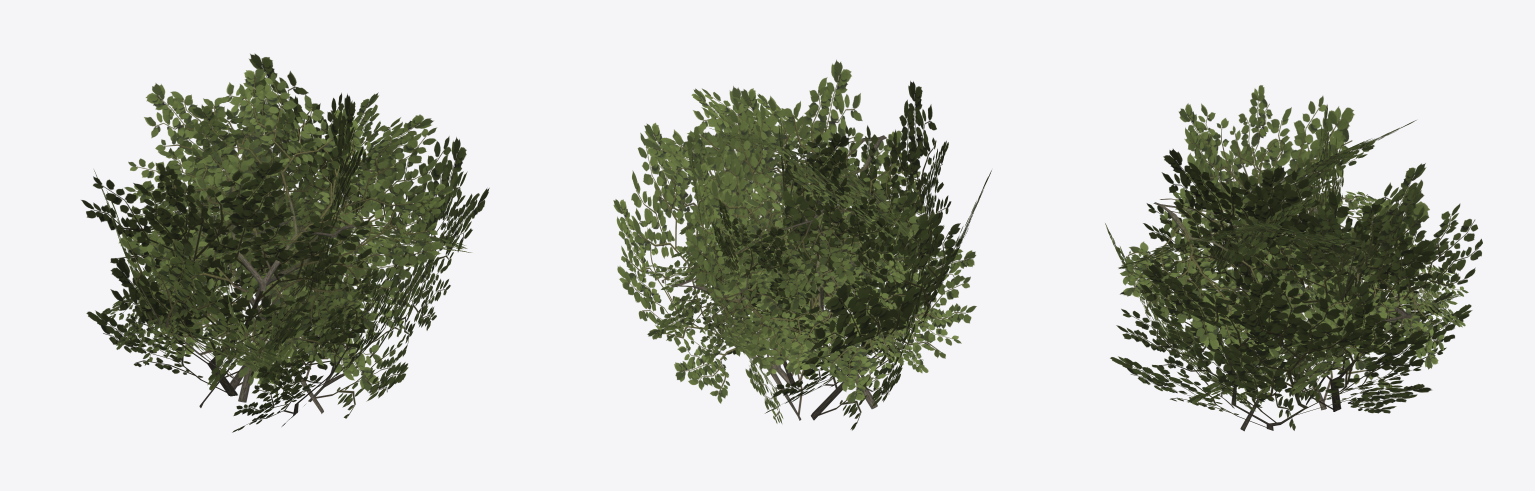
File: bush-4.glb
3 renders of one model, left to right at view 1: azimuth 30°, elevation 25°; view 2: azimuth 150°, elevation 25°; view 3: azimuth 270°, elevation 25°, orthographic. The views are drawn at different scales.
Parts seen in each view (by area): view 1: Bush-01; view 2: Bush-01; view 3: Bush-01.
Boxes of the visible parts, box(x1,y1,x2,y2) form: Bush-01: box(81, 53, 489, 432); Bush-01: box(613, 59, 991, 430); Bush-01: box(1105, 85, 1482, 431).
Size of the model in its own units: 1.25 by 0.8849 by 1.2.
5 materials, 5 textured.
